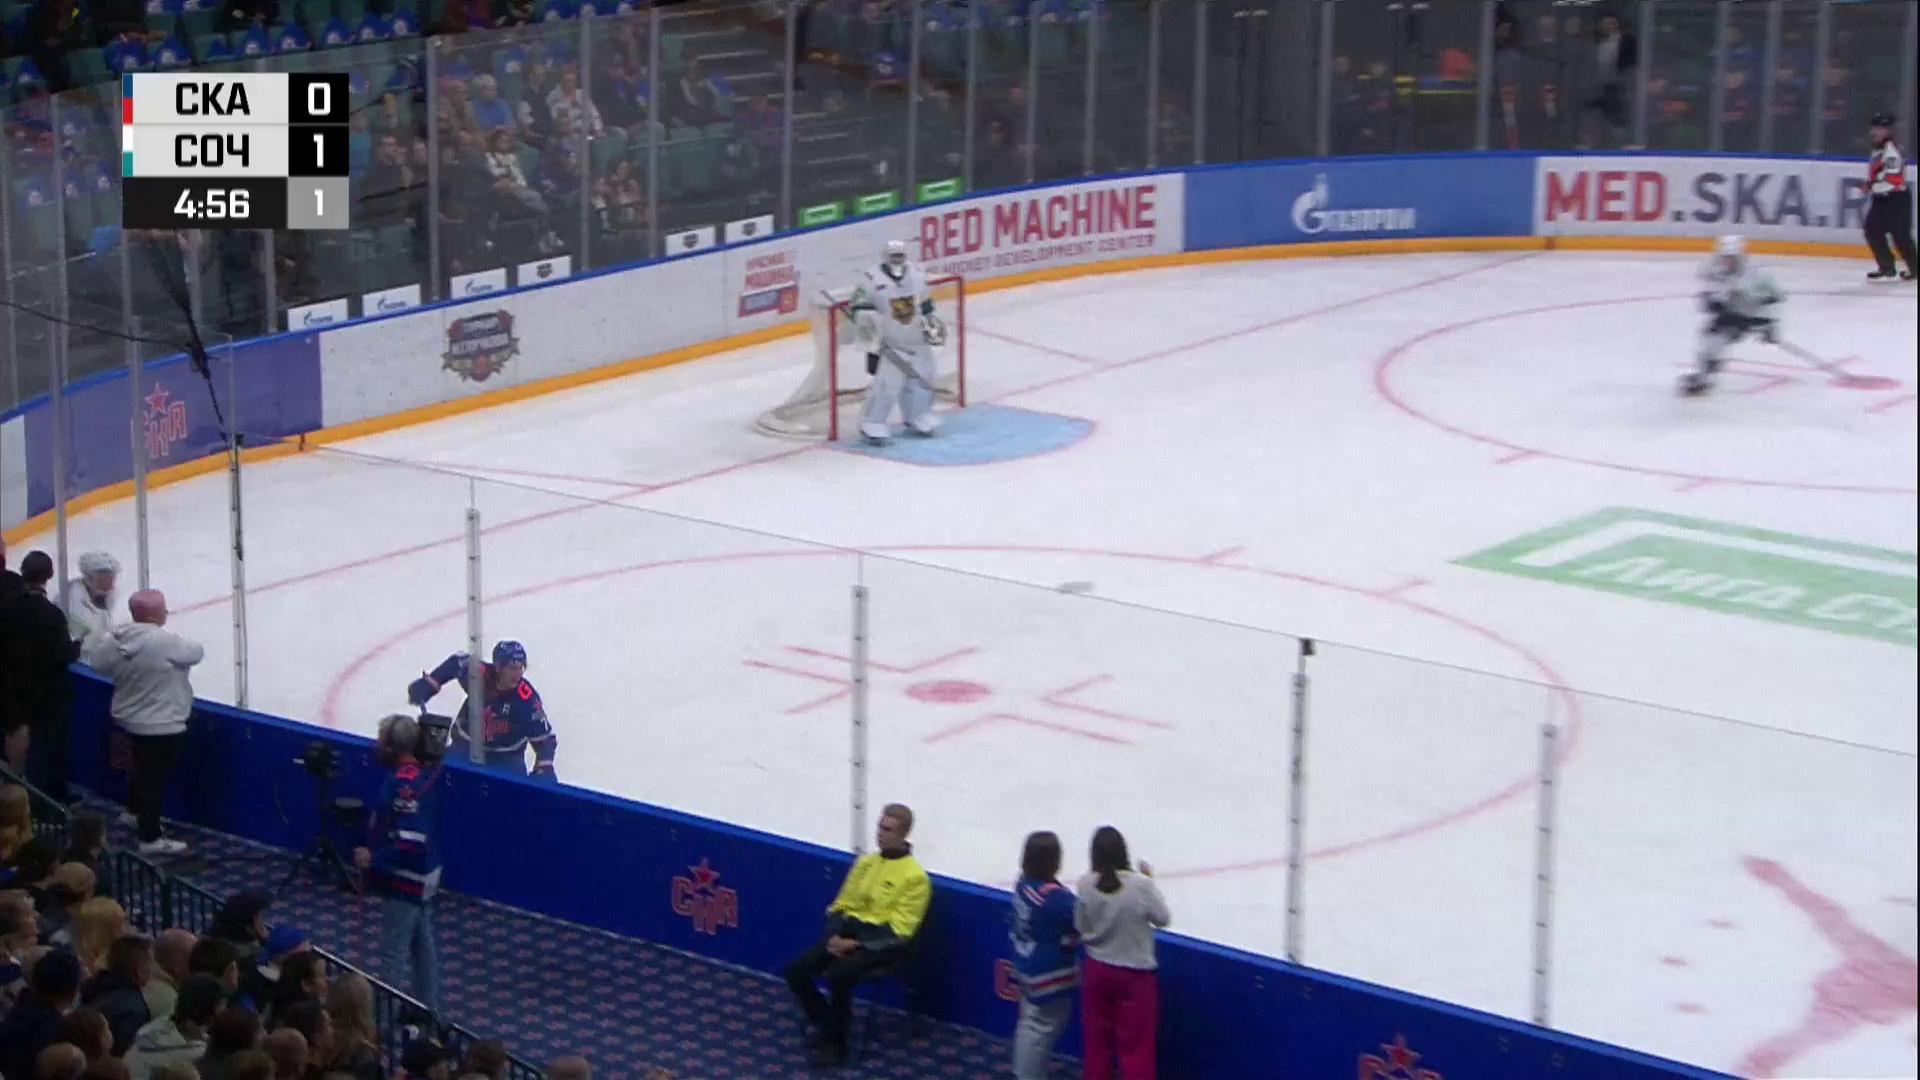ball: (1055, 582, 1093, 593)
